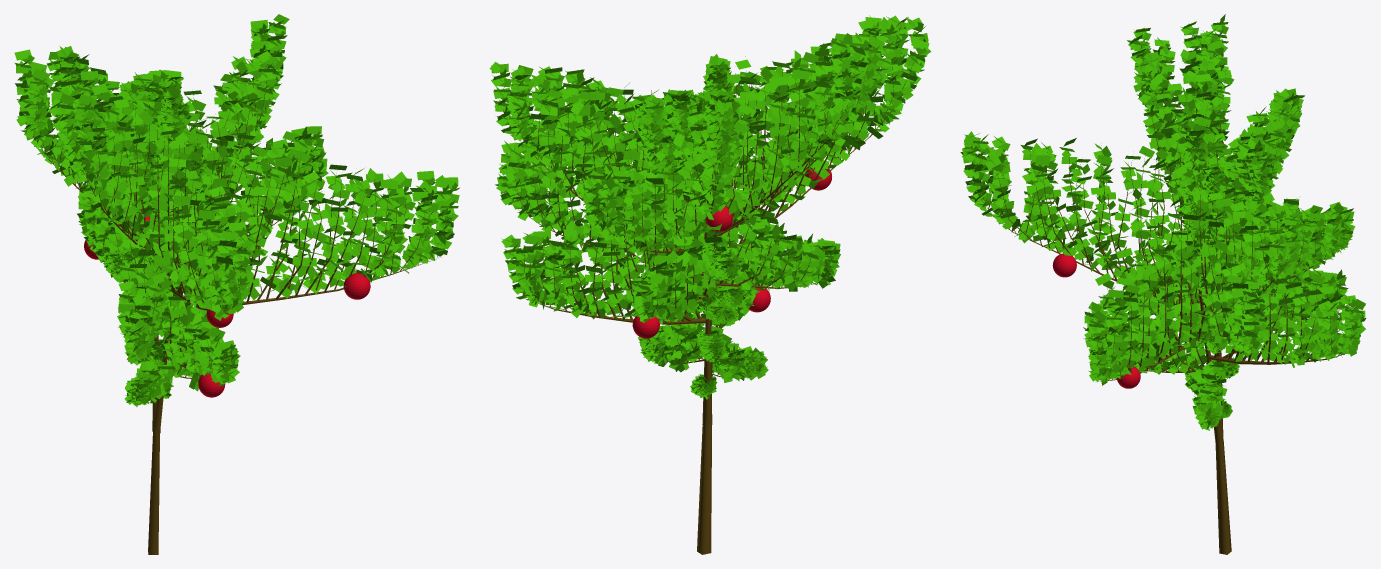
The model's file is appletree.fbx.
The picture shows the model from 3 angles, left to right: view 1: azimuth 30°, elevation 25°; view 2: azimuth 150°, elevation 25°; view 3: azimuth 270°, elevation 25°; orthographic projection. The views are drawn at different scales.
Parts seen in each view (by area): view 1: leaves, tree, Sphere.002; view 2: leaves, tree; view 3: leaves, tree.
Boxes of the visible parts, x1=… form: leaves: x1=14, y1=14, x2=459, y2=406; tree: x1=27, y1=64, x2=448, y2=554; Sphere.002: x1=343, y1=273, x2=370, y2=299; leaves: x1=489, y1=15, x2=931, y2=399; tree: x1=503, y1=40, x2=915, y2=554; leaves: x1=960, y1=14, x2=1366, y2=430; tree: x1=974, y1=50, x2=1352, y2=554.
Bounding box in the file's own units: 1014 × 1372 × 1058.
